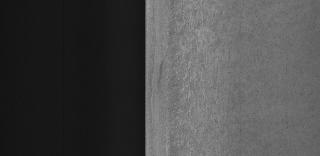silk spot: (164, 6, 236, 152)
